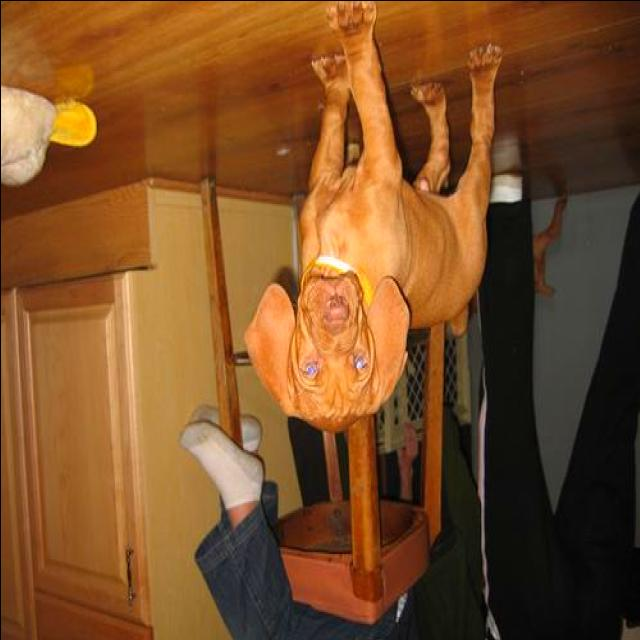vizsla: (243, 1, 503, 434)
